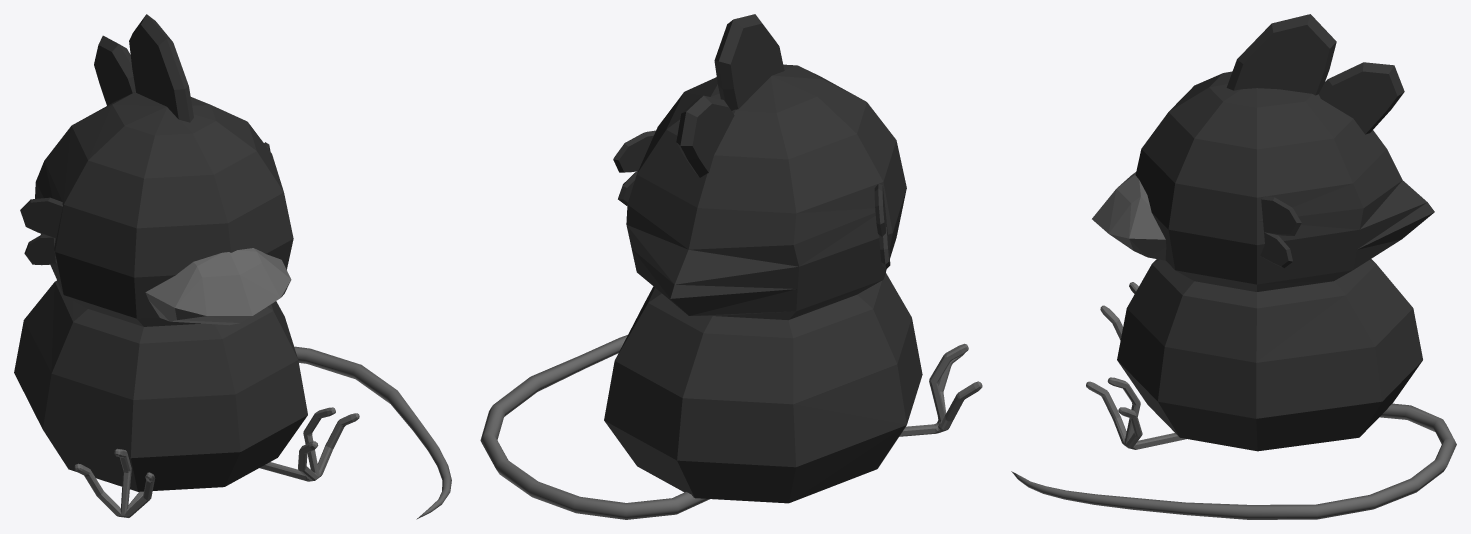
Rendered from Bertram.fbx.
The picture shows the model from 3 angles, left to right: view 1: azimuth 30°, elevation 25°; view 2: azimuth 150°, elevation 25°; view 3: azimuth 270°, elevation 25°; orthographic projection. The views are drawn at different scales.
Visible parts, largest first — view 1: BezierCurve; view 2: BezierCurve; view 3: BezierCurve.
Boxes of the visible parts, x1=… form: BezierCurve: x1=14, y1=14, x2=451, y2=519; BezierCurve: x1=480, y1=14, x2=982, y2=519; BezierCurve: x1=1011, y1=14, x2=1456, y2=519.
Size of the model in its own units: 27.4 by 29.46 by 29.47.
